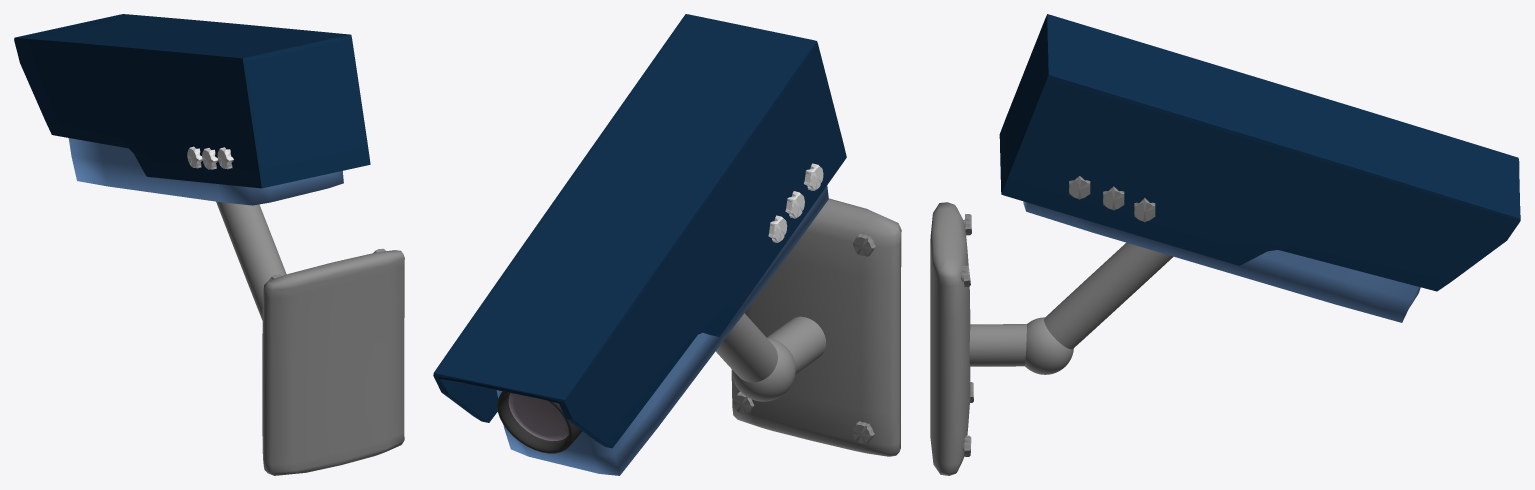
The model's file is Camera.fbx.
The picture shows the model from 3 angles, left to right: view 1: azimuth 30°, elevation 25°; view 2: azimuth 150°, elevation 25°; view 3: azimuth 270°, elevation 25°; orthographic projection. The views are drawn at different scales.
Visible parts, largest first — view 1: CameraCima, CameraBaixo; view 2: CameraCima, CameraBaixo; view 3: CameraCima, CameraBaixo.
Part boxes in pixels (x1,y1,x2,y2): CameraCima: [14, 14, 370, 205]; CameraBaixo: [216, 201, 404, 475]; CameraCima: [433, 14, 846, 475]; CameraBaixo: [715, 198, 901, 456]; CameraCima: [999, 14, 1520, 322]; CameraBaixo: [930, 202, 1173, 475].
Size of the model in its own units: 140 by 366 by 481.
